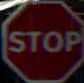Stop: (1, 1, 83, 82)
